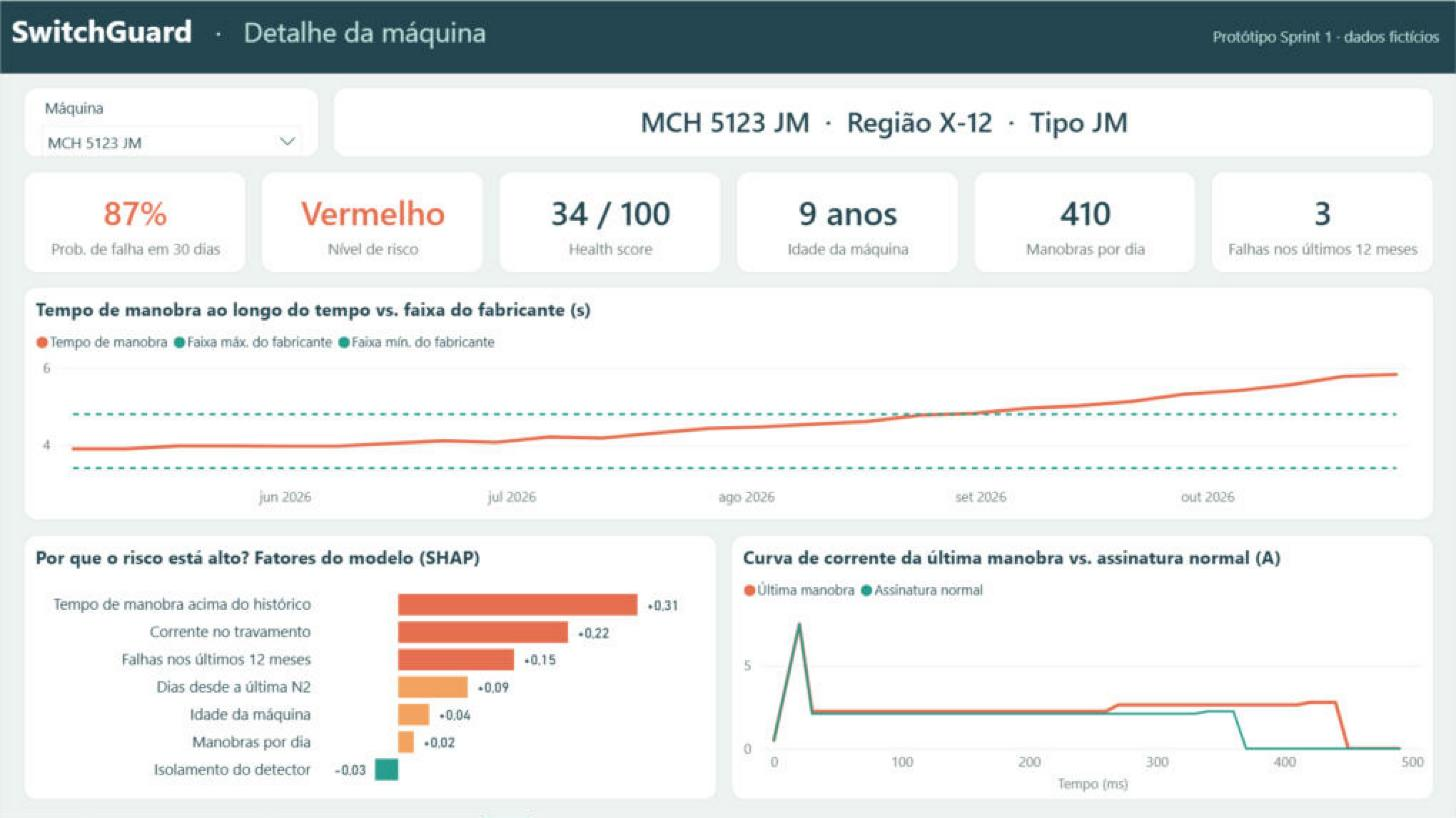

The dashboard page shown, as its layout file describes it:
{"tool":"powerbi","page":{"name":"Detalhe da máquina","canvas":[1280,720],"ordinal":1},"visuals":[{"type":"textbox","box":[0,0,1280,64],"z":12000},{"type":"textbox","box":[880,16,390,36],"z":13000},{"type":"slicer","fields":{"Values":["maquinas.maquina"]},"box":[20,76,260,62],"z":14000},{"type":"card","fields":{"Values":["maquinas.Titulo detalhe"]},"box":[292,76,968,62],"z":15000},{"type":"card","fields":{"Values":["maquinas.Probabilidade 30 dias"]},"box":[20,150,196,90],"z":16000},{"type":"card","fields":{"Values":["maquinas.Nivel de risco"]},"box":[228.8,150,196,90],"z":17000},{"type":"card","fields":{"Values":["maquinas.Health score"]},"box":[437.6,150,196,90],"z":18000},{"type":"card","fields":{"Values":["maquinas.Idade"]},"box":[646.4,150,196,90],"z":19000},{"type":"card","fields":{"Values":["maquinas.Manobras por dia"]},"box":[855.2,150,196,90],"z":20000},{"type":"card","fields":{"Values":["maquinas.Falhas 12 meses"]},"box":[1064,150,196,90],"z":21000},{"type":"lineChart","title":"Tempo de manobra ao longo do tempo vs. faixa do fabricante (s)","fields":{"Category":["medicoes.data"],"Y":["maquinas.Tempo de manobra (s)","maquinas.Faixa max fabricante","maquinas.Faixa min fabricante"]},"box":[20,252,1240,206],"z":22000},{"type":"clusteredBarChart","title":"Por que o risco está alto? Fatores do modelo (SHAP)","fields":{"Category":["fatores.fator"],"Y":["maquinas.Contribuicao SHAP"]},"box":[20,470,610,234],"z":23000},{"type":"lineChart","title":"Curva de corrente da última manobra vs. assinatura normal (A)","fields":{"Category":["curva.t_ms"],"Y":["maquinas.Corrente ultima manobra","maquinas.Assinatura normal"]},"box":[642,470,618,234],"z":24000}]}

Visuals, with their boxes in screenshot pixels (x1, y1, x2, y2), scaled from the page's 1280x720 canvas onto the 1456x818 screenshot:
textbox: [0,0,1455,73]
textbox: [1001,18,1445,59]
slicer - maquinas.maquina: [23,86,318,157]
card - maquinas.Titulo detalhe: [332,86,1433,157]
card - maquinas.Probabilidade 30 dias: [23,170,246,273]
card - maquinas.Nivel de risco: [260,170,483,273]
card - maquinas.Health score: [498,170,721,273]
card - maquinas.Idade: [735,170,958,273]
card - maquinas.Manobras por dia: [973,170,1196,273]
card - maquinas.Falhas 12 meses: [1210,170,1433,273]
"Tempo de manobra ao longo do tempo vs. faixa do fabricante (s)" lineChart: [23,286,1433,520]
"Por que o risco está alto? Fatores do modelo (SHAP)" clusteredBarChart: [23,534,717,800]
"Curva de corrente da última manobra vs. assinatura normal (A)" lineChart: [730,534,1433,800]
